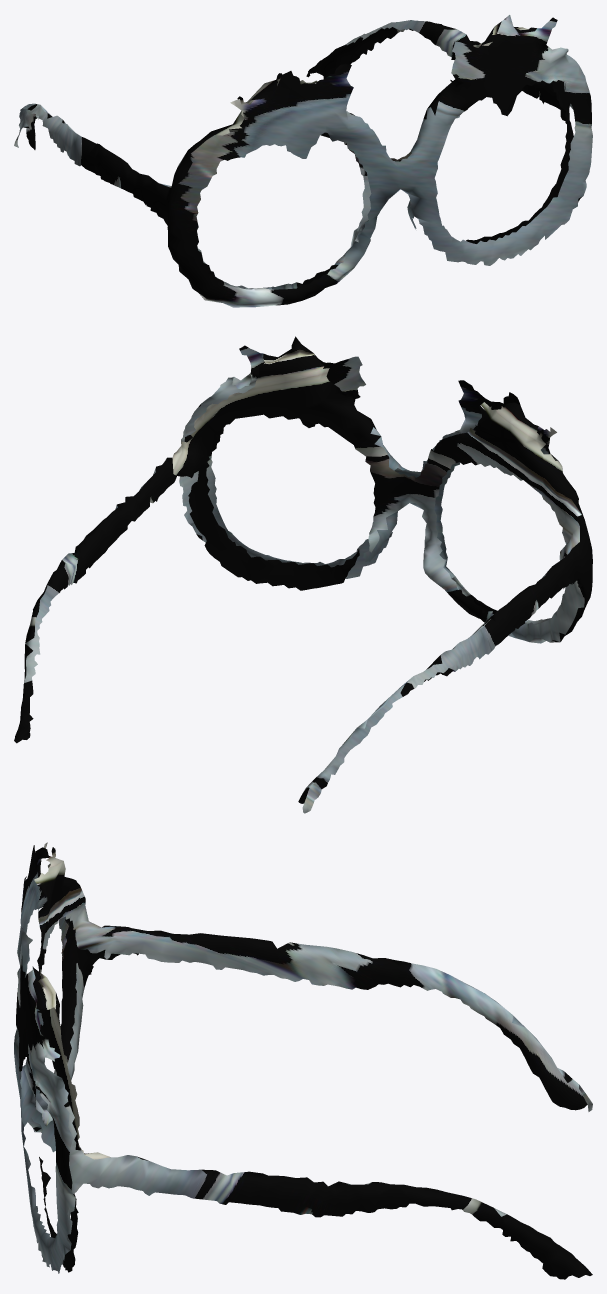
The model's file is scan_align.obj.
3 renders of one model, top to bottom at view 1: azimuth 30°, elevation 25°; view 2: azimuth 150°, elevation 25°; view 3: azimuth 270°, elevation 25°, orthographic. The views are drawn at different scales.
Bounding box in the file's own units: 0.1281 × 0.0721 × 0.1316.
